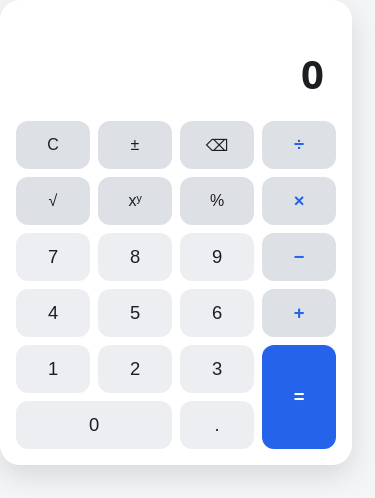
Scenario: Calculator › computes 1 + 2 = 3 through the backend
The width and height of the screenshot is (375, 498).
What coordinates should you click on to do the following:
click the button "1"
I would click on:
 (53, 369)
Its box is x1=16 y1=345 x2=90 y2=393.
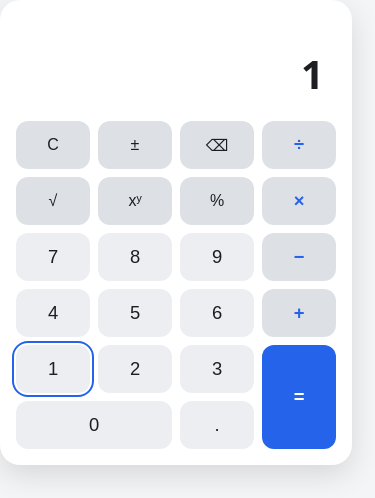
What coordinates should you click on to do the following:
click the button named "add"
I would click on:
 (299, 313)
Its box is x1=262 y1=289 x2=336 y2=337.
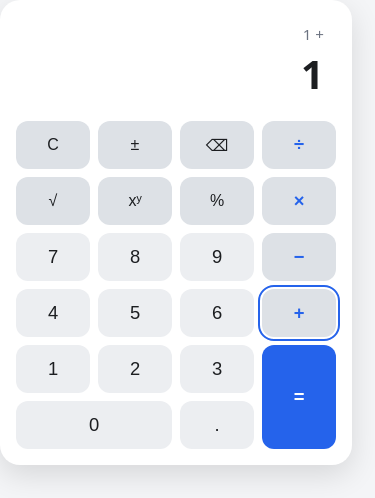
What coordinates should you click on to do the following:
click the button "2"
I would click on:
 (135, 369)
Its box is x1=98 y1=345 x2=172 y2=393.
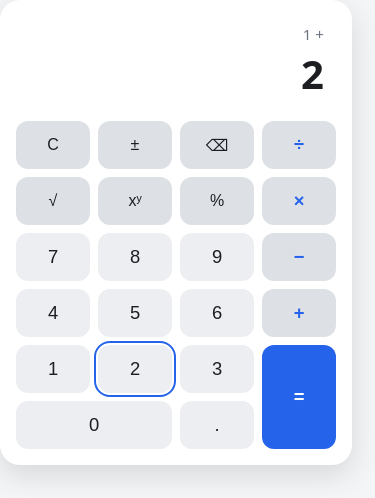
What coordinates should you click on to do the following:
click the button named "equals"
I would click on:
 (299, 397)
Its box is x1=262 y1=345 x2=336 y2=449.
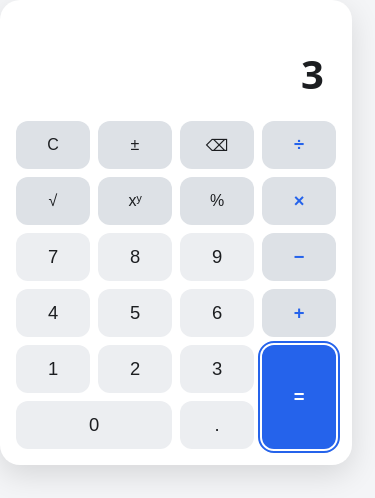
Expected: the message reads "3", x1=301 y1=46 x2=324 y2=101
